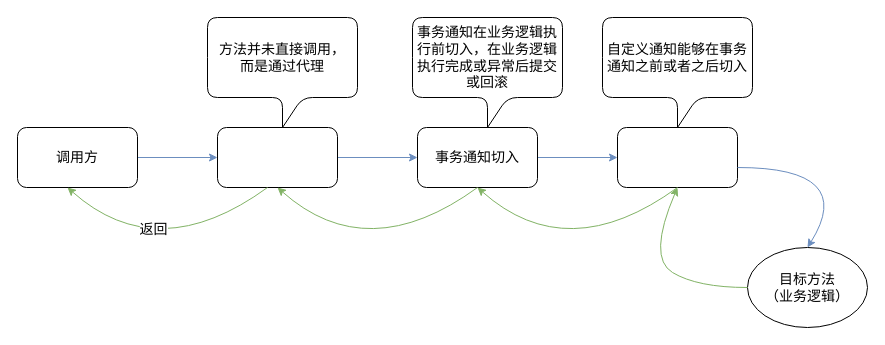
Image size: 885x345. Some labels were removed from this diagram. Each missing label, with the centre of its shape:
AOP代理: [277,157]
自定义通知切入: [677,157]
